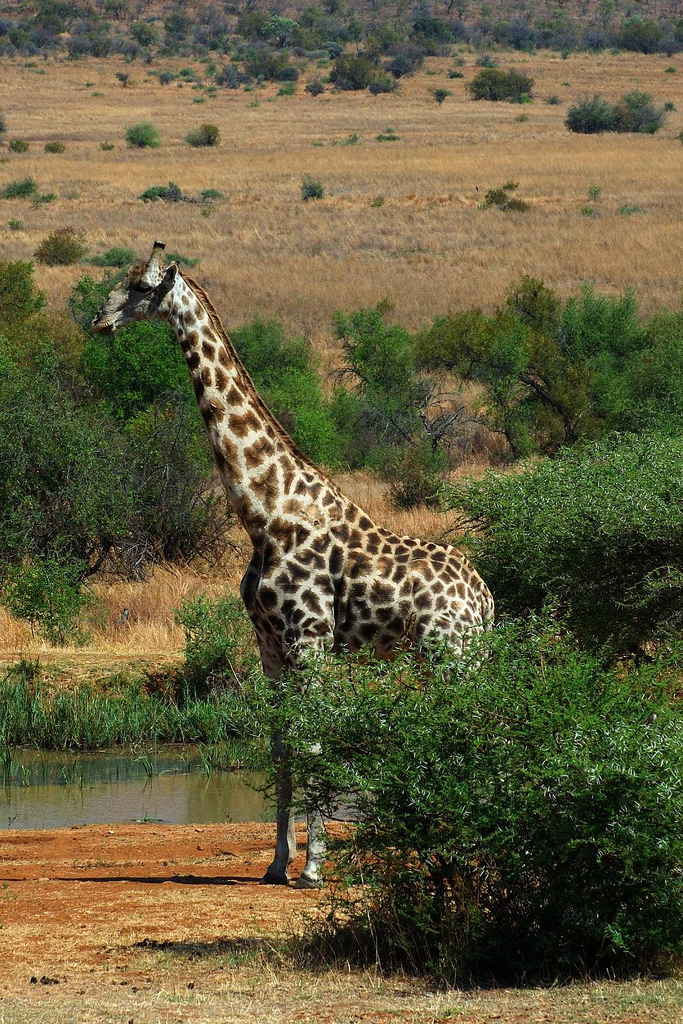giraffe: (60, 236, 536, 929)
